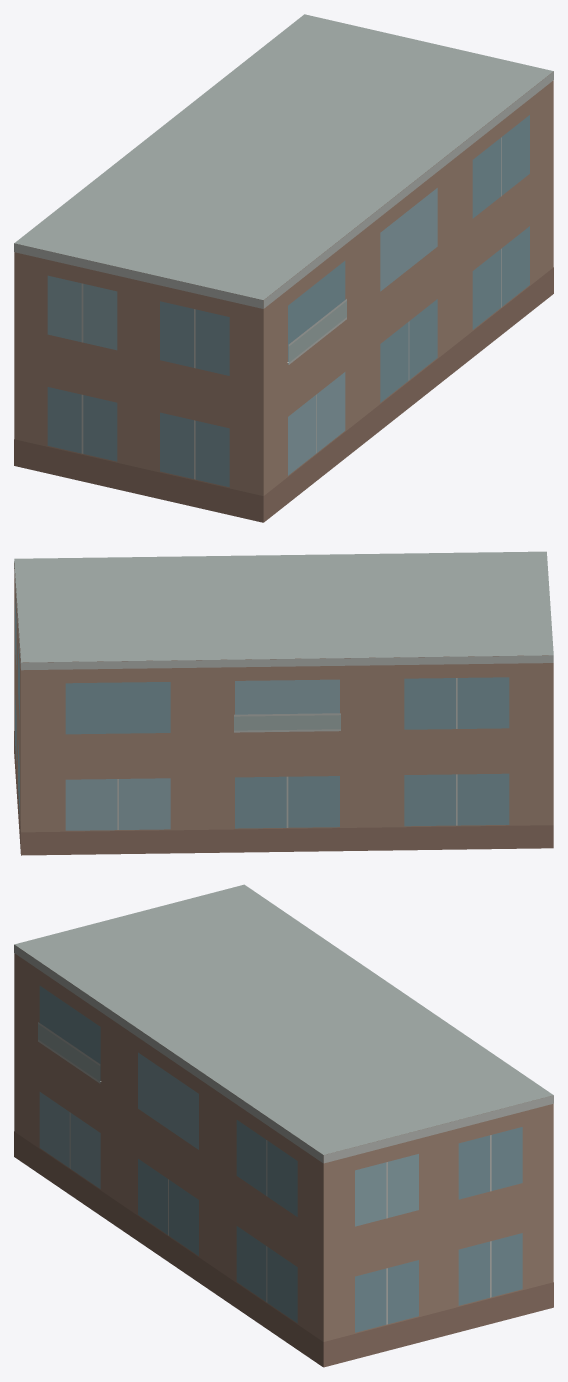
The model's file is survey-upis-32797718.glb.
3 renders of one model, top to bottom at view 1: azimuth 30°, elevation 25°; view 2: azimuth 150°, elevation 25°; view 3: azimuth 270°, elevation 25°, orthographic. The views are drawn at different scales.
Visible parts, largest first — view 1: survey-upis-32797718.tmp; view 2: survey-upis-32797718.tmp; view 3: survey-upis-32797718.tmp.
Boxes of the visible parts, x1,y1,x2,y2 form: survey-upis-32797718.tmp: (14, 14, 553, 522); survey-upis-32797718.tmp: (14, 551, 553, 855); survey-upis-32797718.tmp: (14, 884, 553, 1367).
Size of the model in its own units: 16.68 by 6.1 by 14.06.
